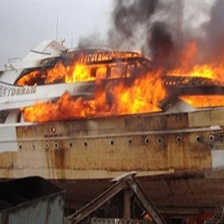fire: (16, 57, 224, 122)
smoke: (110, 1, 222, 57)
